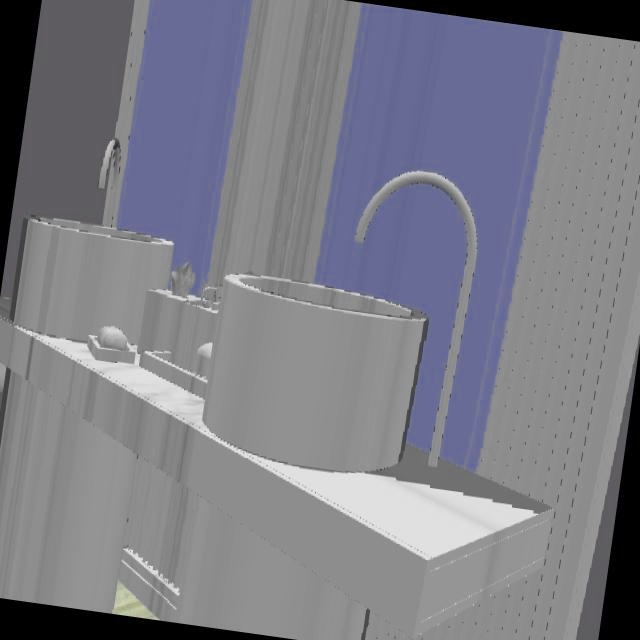shelf: (0, 301, 551, 637)
washbasin: (203, 274, 428, 472), (356, 172, 476, 467), (10, 219, 174, 342), (99, 138, 122, 224)
